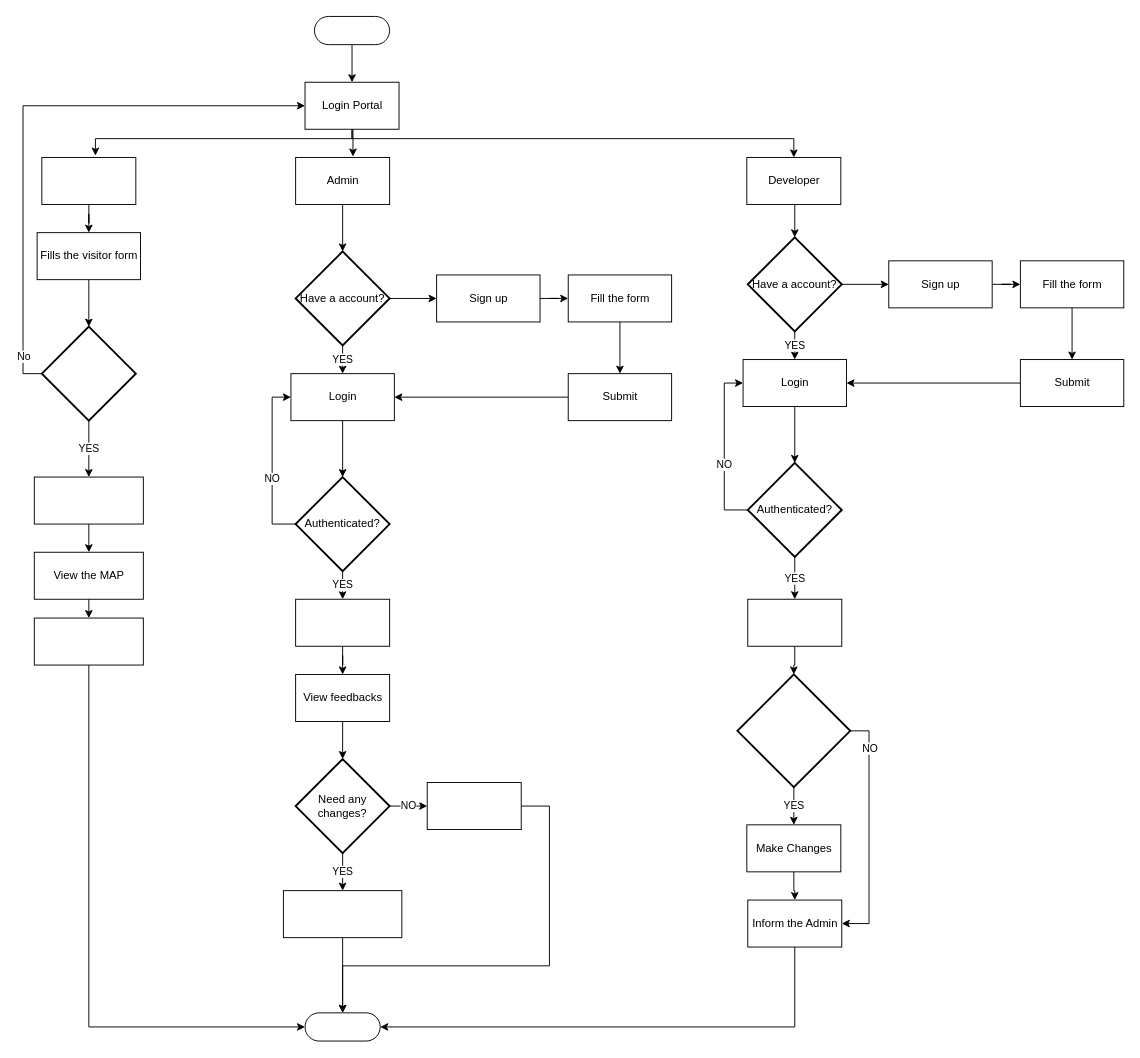
Some shapes in this 1140 by 1058 pixel diagram are drawn without their labels. The centre of each missing label's shape, as x and y in pixels:
"END" belongs at point 342,1026.
"Give feedback" belongs at point 88,641.
"If changes can be done" belongs at point 793,730.
"if user fill all the attributes" belongs at point 88,373.
"New Visitor" belongs at point 88,180.
"Requests for changes" belongs at point 342,914.
"START" belongs at point 351,30.
"View Model" belongs at point 473,806.
"View New Visitors" belongs at point 342,622.
"View Requets" belongs at point 794,622.
"View the 3D model" belongs at point 88,500.
